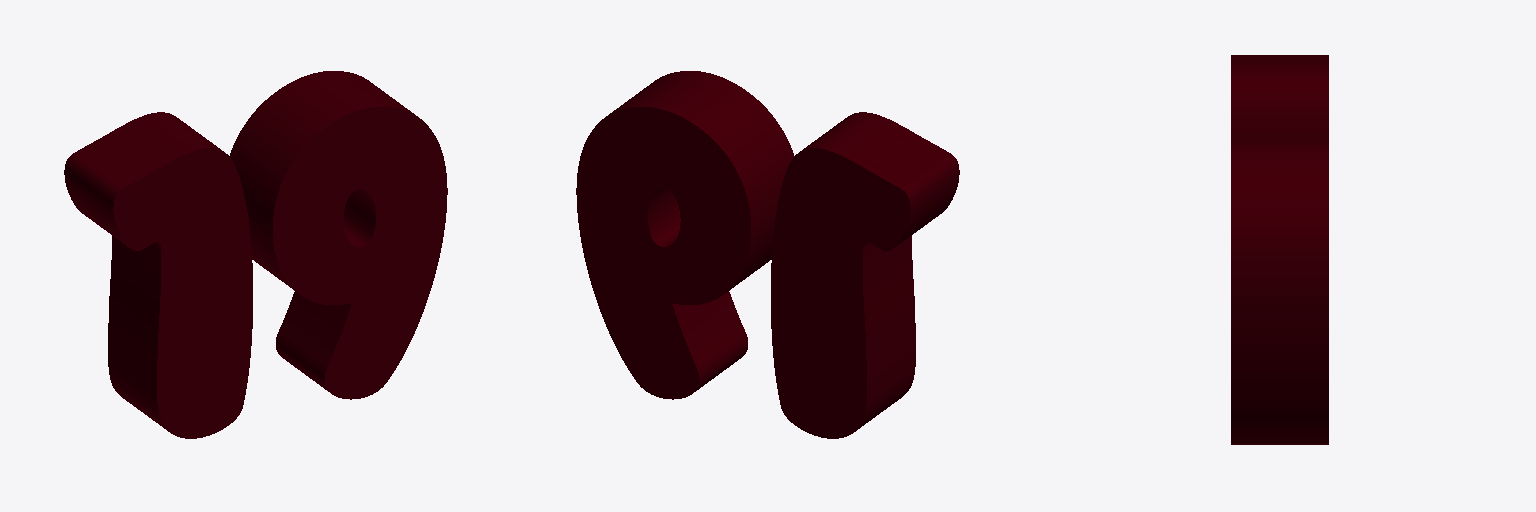
File: Number19.obj
The picture shows the model from 3 angles: view 1: azimuth 30°, elevation 25°; view 2: azimuth 150°, elevation 25°; view 3: azimuth 270°, elevation 25°; orthographic projection.
Visible parts, largest first — view 1: Text; view 2: Text; view 3: Text.
Part boxes in pixels (x1,y1,x2,y2): Text: (64,71,447,438); Text: (576,71,959,438); Text: (1231,55,1328,444).
Bounding box in the file's own units: 0.7092 × 0.5865 × 0.18.